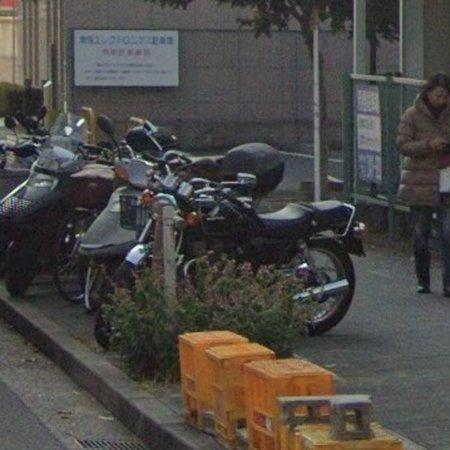motorcycles: (153, 168, 366, 336), (112, 211, 158, 289)
